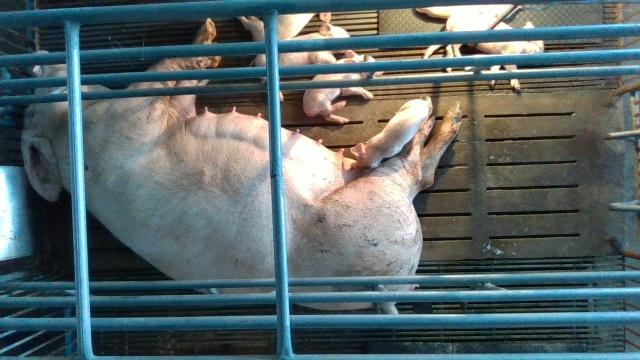piglet: (424, 13, 546, 92), (250, 22, 352, 102), (349, 94, 434, 170), (302, 48, 383, 125), (237, 12, 332, 41)
sow-sleep-lactate: (20, 17, 463, 315)
